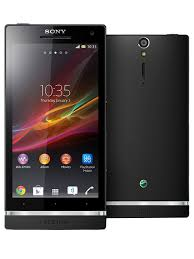sony: (1, 21, 109, 231)
